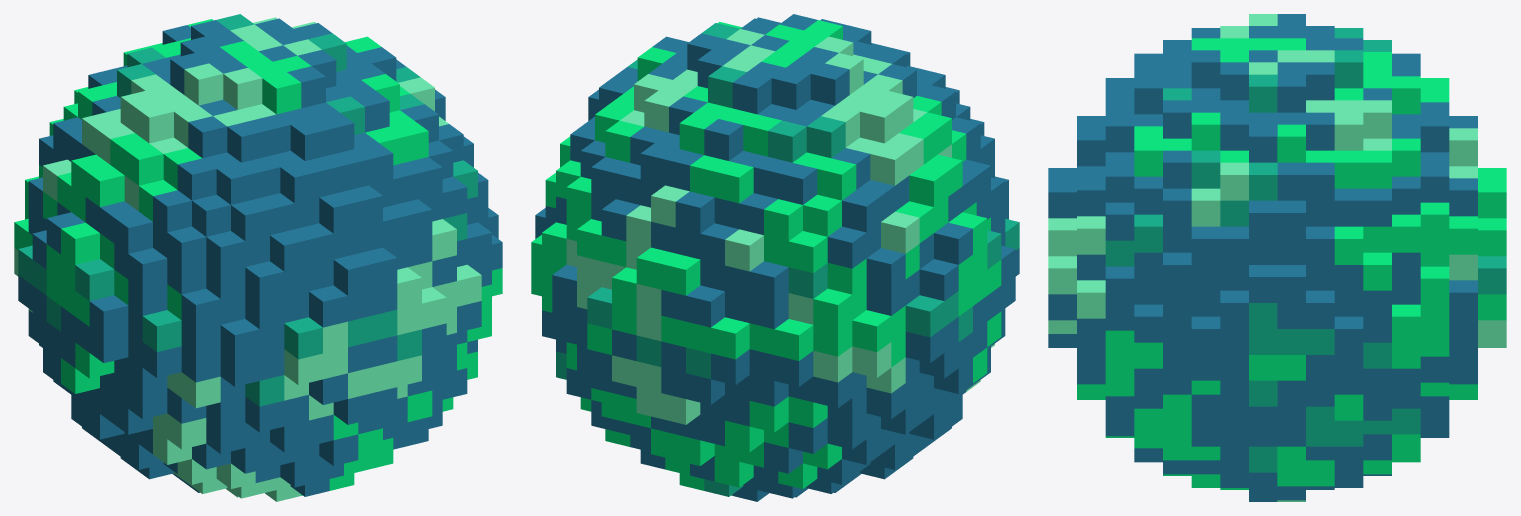
Rendered from planetas-16-azulverde.obj.
3 views of the same model, side by side, from view 1: azimuth 30°, elevation 25°; view 2: azimuth 150°, elevation 25°; view 3: azimuth 270°, elevation 25° (orthographic).
Size of the model in its own units: 1.6 by 1.6 by 1.6.
Materials: 1 (1 with a texture image).
